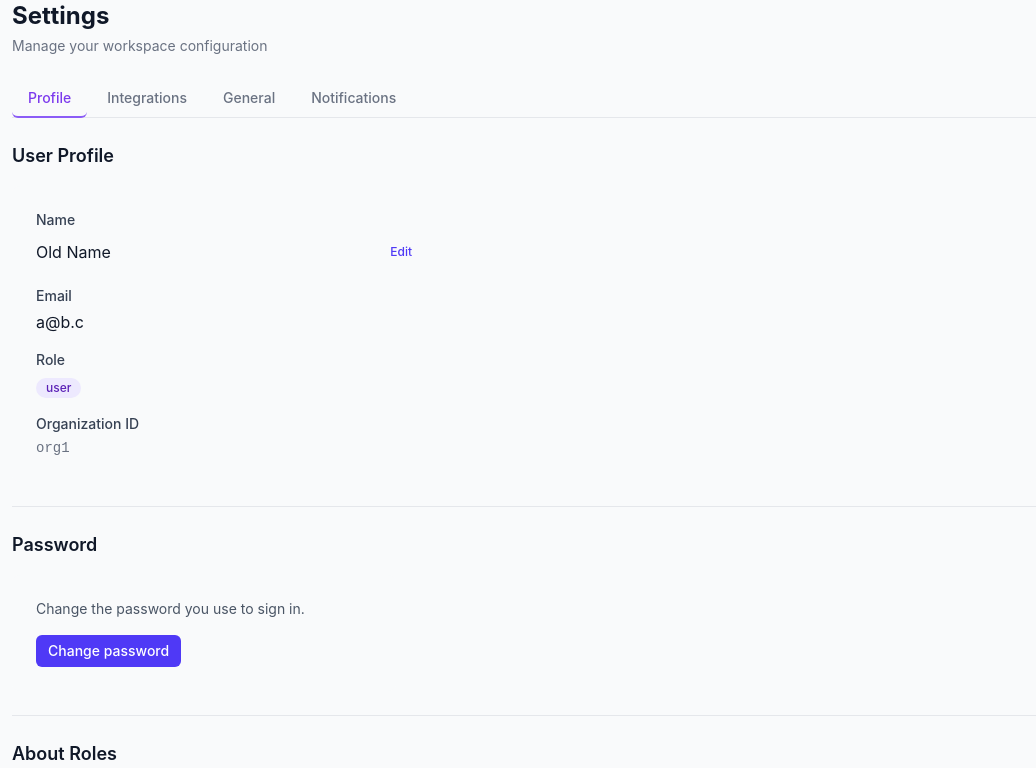
Test: Settings → Profile tab → change password › blocks submit when new and confirm passwords do not match
Click the button "Change password" at (109, 651), box [36,635,181,667]
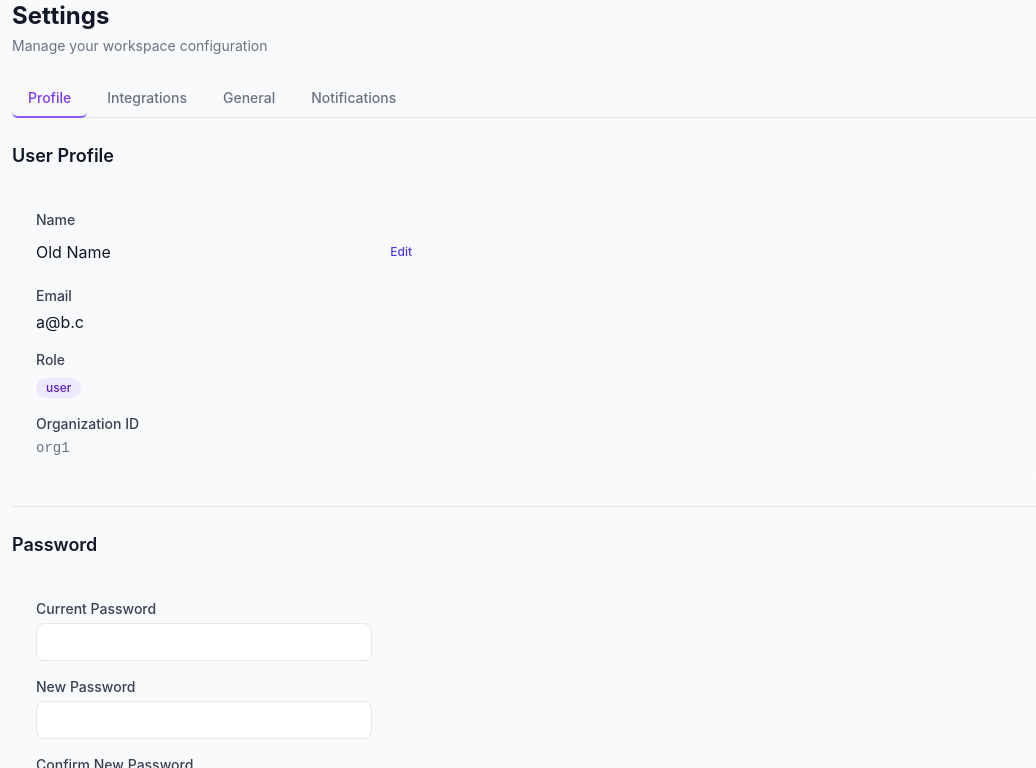
Type "oldpassword" into the password field labelled "Current Password" at (204, 642), box [36,623,372,661]
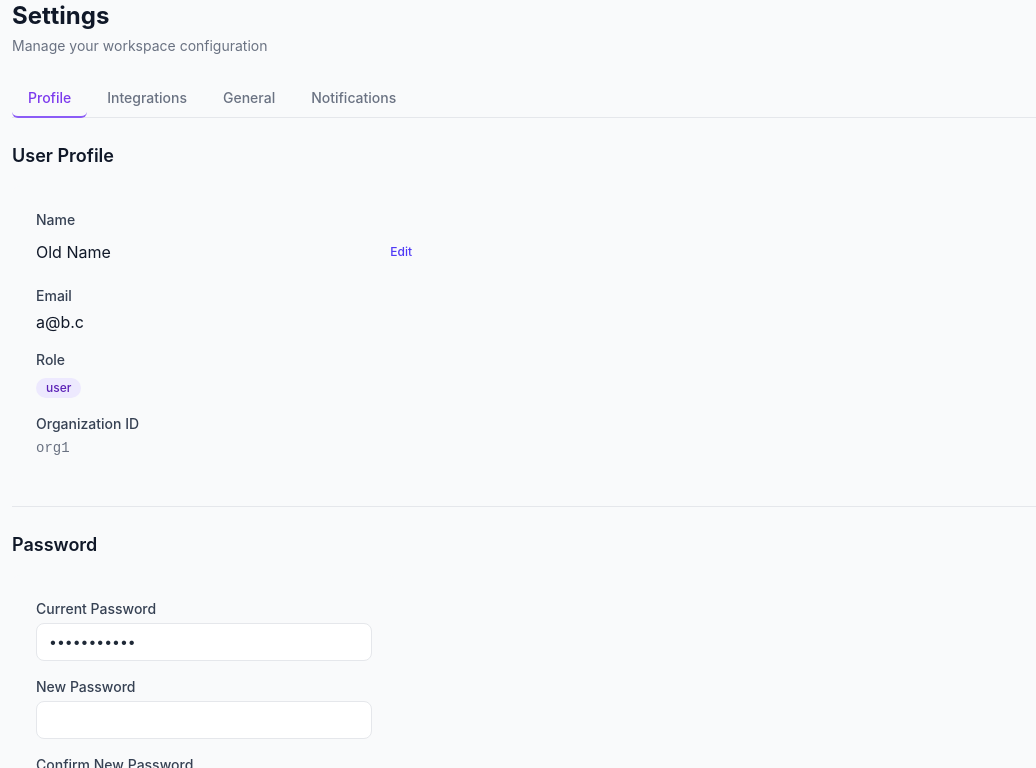
Type "newpassword" into the password field labelled "New Password" at (204, 720), box [36,701,372,739]
(page scrolled)
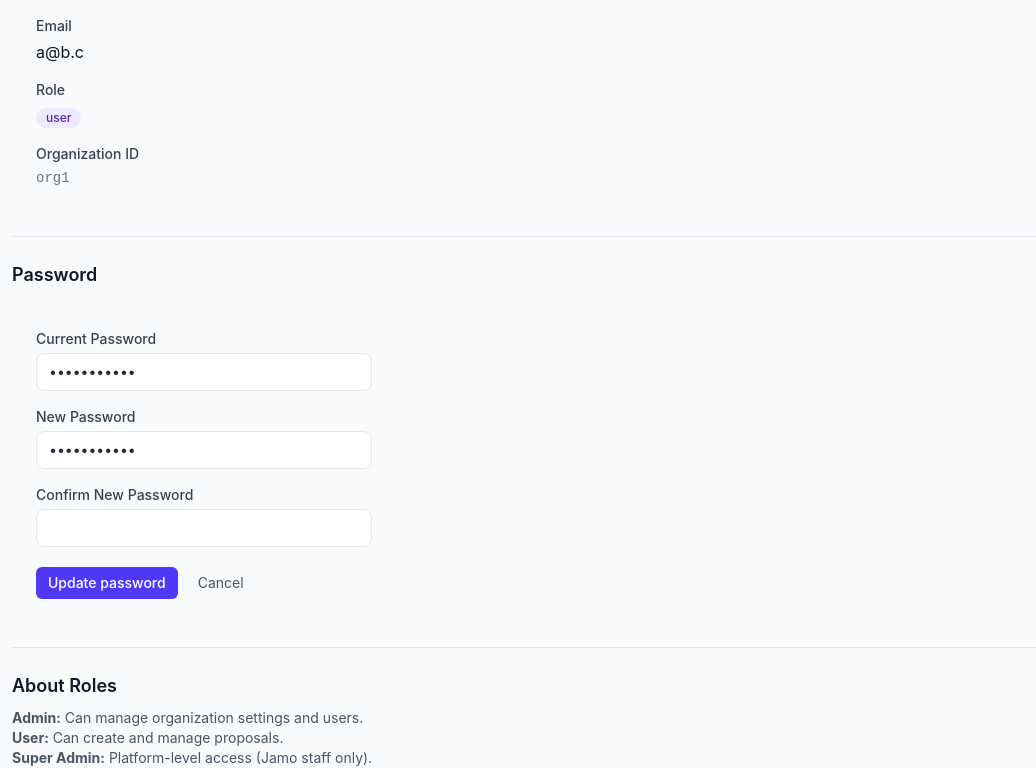
Type "different" into the password field labelled "Confirm New Password" at (204, 528), box [36,509,372,547]
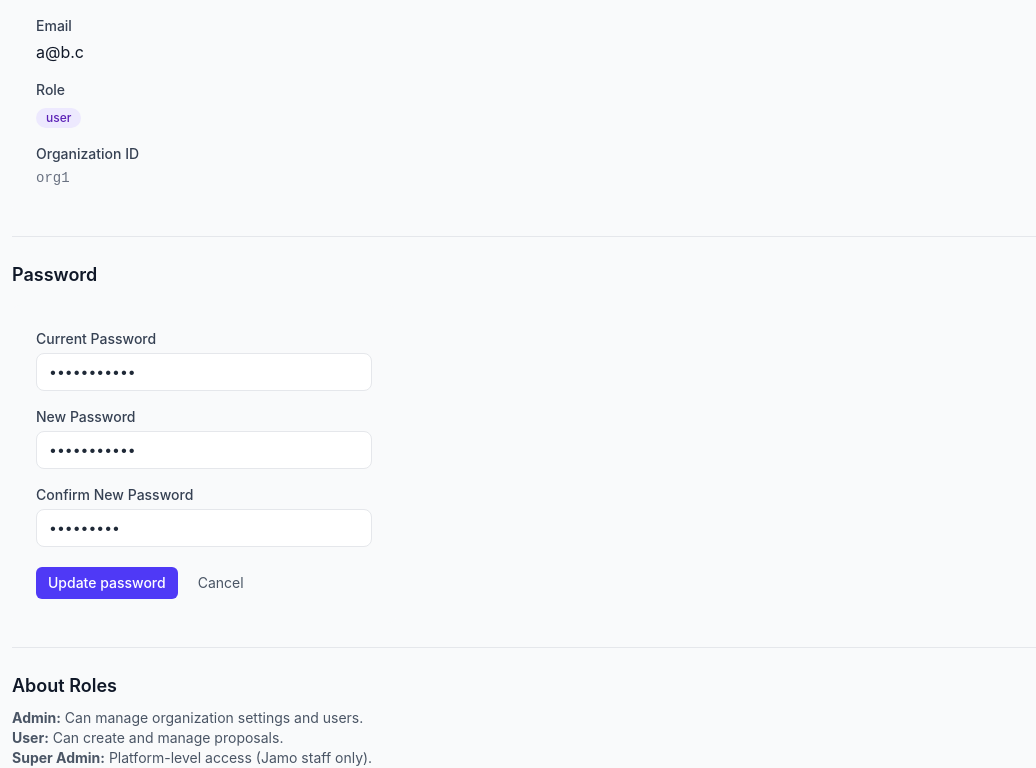
Click the button "Update password" at (107, 583), box [36,567,178,599]
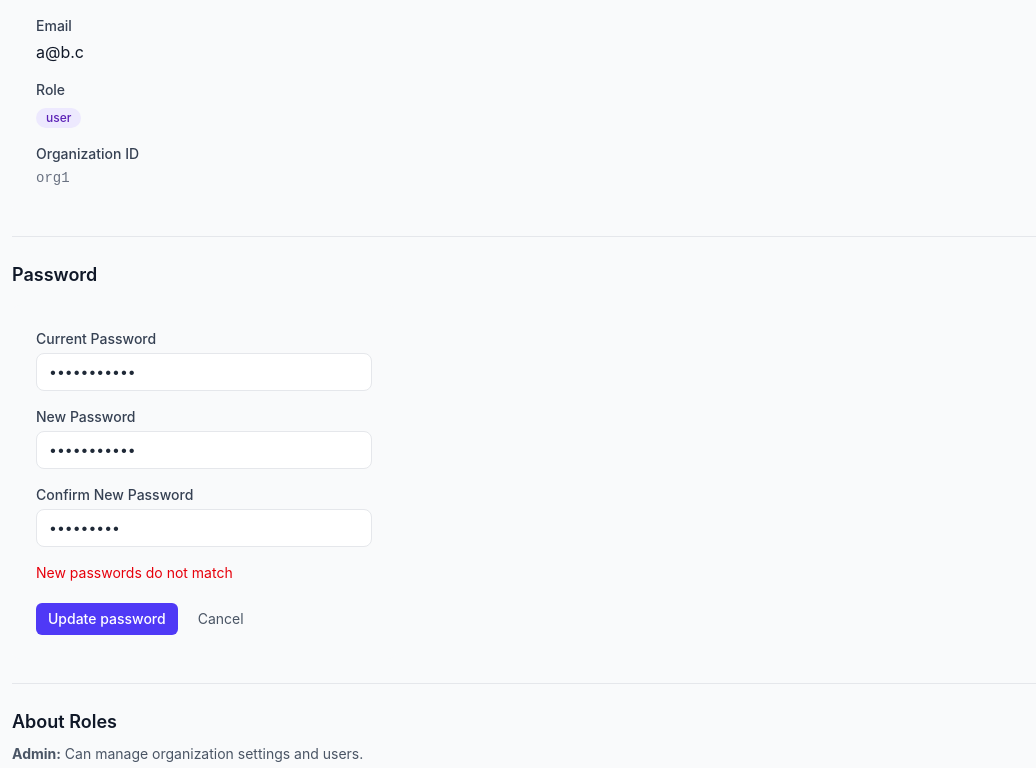
expect the text "New passwords do not match" is shown: met, box [36,564,233,581]
